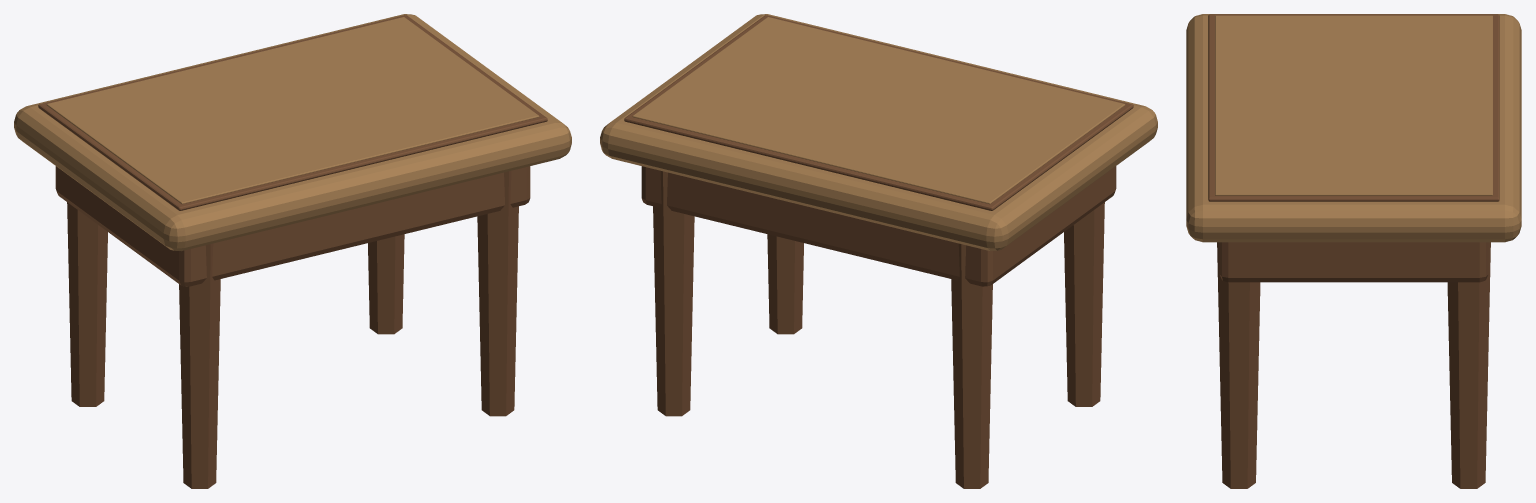
Rendered from SM_CH_Story_Table.fbx.
The picture shows the model from 3 angles, left to right: view 1: azimuth 30°, elevation 25°; view 2: azimuth 150°, elevation 25°; view 3: azimuth 270°, elevation 25°; orthographic projection. The views are drawn at different scales.
Visible parts, largest first — view 1: SM_CH_Story_Table; view 2: SM_CH_Story_Table; view 3: SM_CH_Story_Table.
Part boxes in pixels (left/top/right/bottom): SM_CH_Story_Table: left=14, top=14, right=571, bottom=488; SM_CH_Story_Table: left=600, top=14, right=1157, bottom=488; SM_CH_Story_Table: left=1186, top=14, right=1521, bottom=488.
Size of the model in its own units: 10900 by 7600 by 7585.
